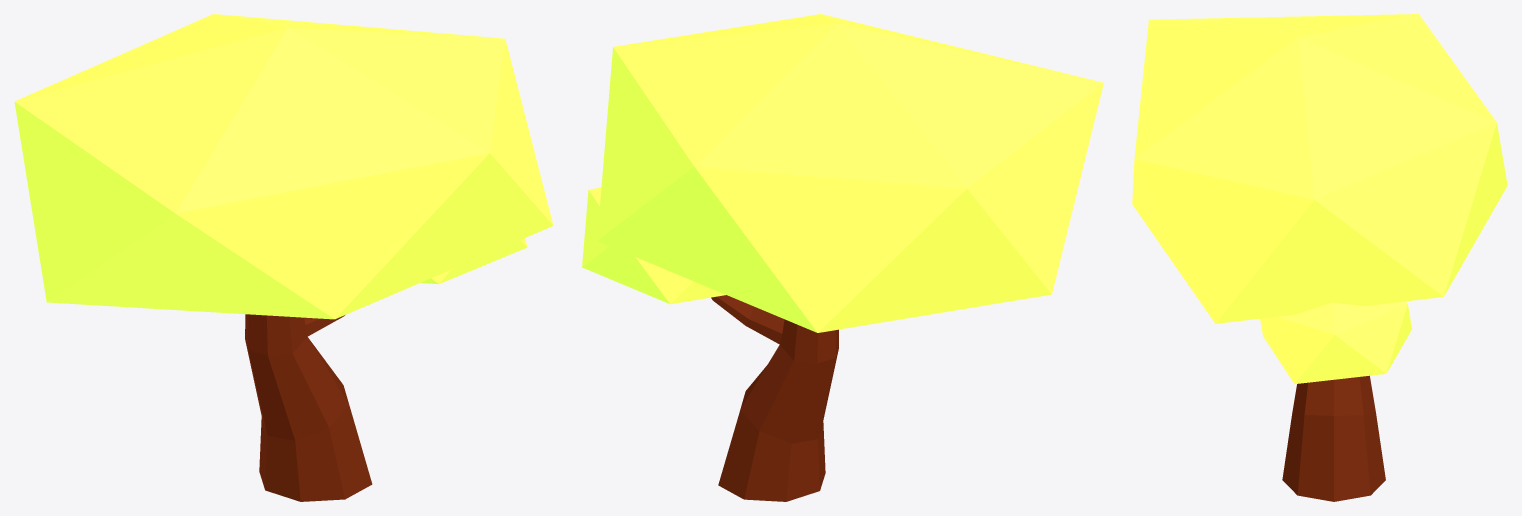
The model's file is bush2.glb.
3 views of the same model, side by side, from view 1: azimuth 30°, elevation 25°; view 2: azimuth 150°, elevation 25°; view 3: azimuth 270°, elevation 25° (orthographic). The views are drawn at different scales.
Visible parts, largest first — view 1: Bush2; view 2: Bush2; view 3: Bush2.
Boxes of the visible parts, x1,y1,x2,y2 form: Bush2: [14, 14, 553, 501]; Bush2: [582, 14, 1103, 501]; Bush2: [1132, 14, 1507, 501].
Size of the model in its own units: 99.68 by 95.67 by 77.14.
